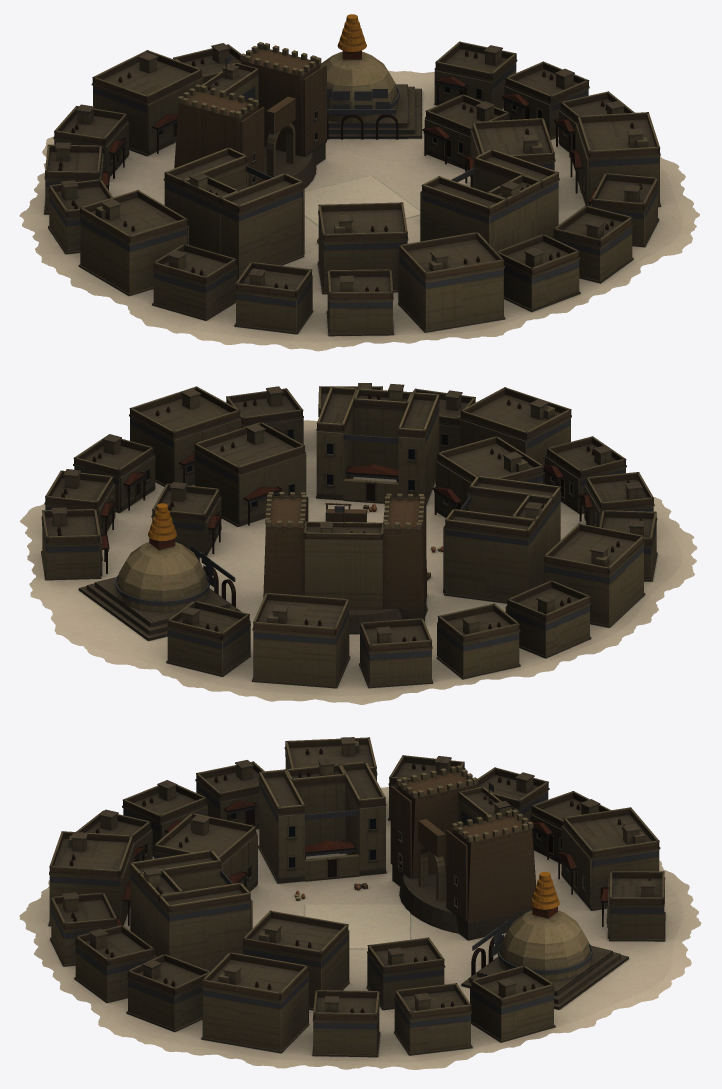
Rendered from classical-town-big-a-steppe.glb.
The picture shows the model from 3 angles, top to bottom: view 1: azimuth 30°, elevation 25°; view 2: azimuth 150°, elevation 25°; view 3: azimuth 270°, elevation 25°; orthographic projection.
Visible parts, largest first — view 1: LOD0; view 2: LOD0; view 3: LOD0.
Part boxes in pixels (x1,y1,x2,y2): LOD0: (19,14,699,351); LOD0: (20,383,697,704); LOD0: (19,737,701,1069).
Size of what is drawn, in the model's own units: 7.91 by 1.48 by 7.95.
Materials: 3 (3 with a texture image).
